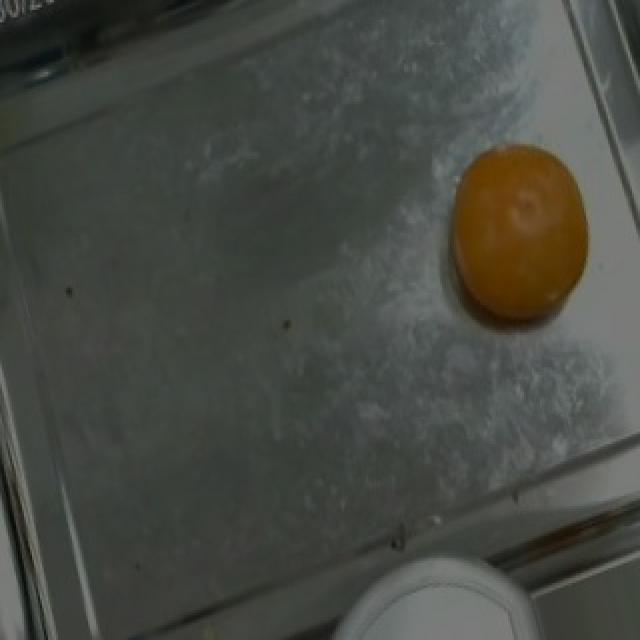Fruit: (428, 119, 610, 342), (336, 573, 536, 638)
